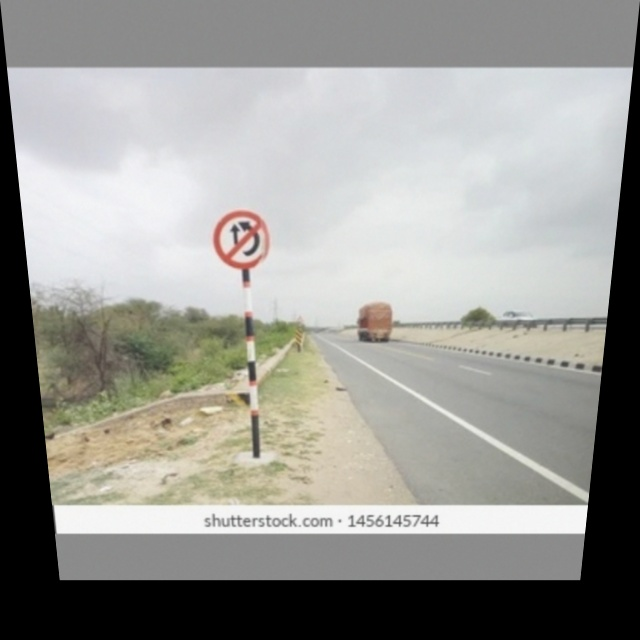Overtaking_Prohibited: (212, 211, 272, 272)
